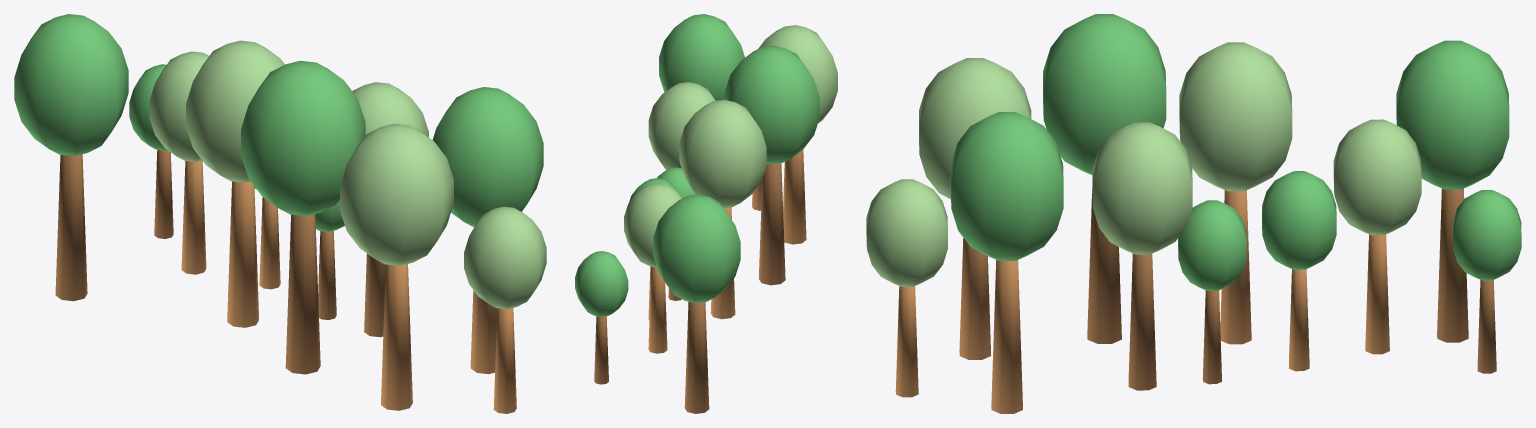
File: trees3.glb
The picture shows the model from 3 angles, left to right: view 1: azimuth 30°, elevation 25°; view 2: azimuth 150°, elevation 25°; view 3: azimuth 270°, elevation 25°; orthographic projection. The views are drawn at different scales.
Visible parts, largest first — view 1: Plane.018; view 2: Plane.018; view 3: Plane.018.
Boxes of the visible parts, left/top/right/bottom form: Plane.018: left=14, top=14, right=546, bottom=413; Plane.018: left=575, top=14, right=837, bottom=413; Plane.018: left=866, top=14, right=1521, bottom=413.
Bounding box in the file's own units: 5.34 × 5.74 × 9.68.
